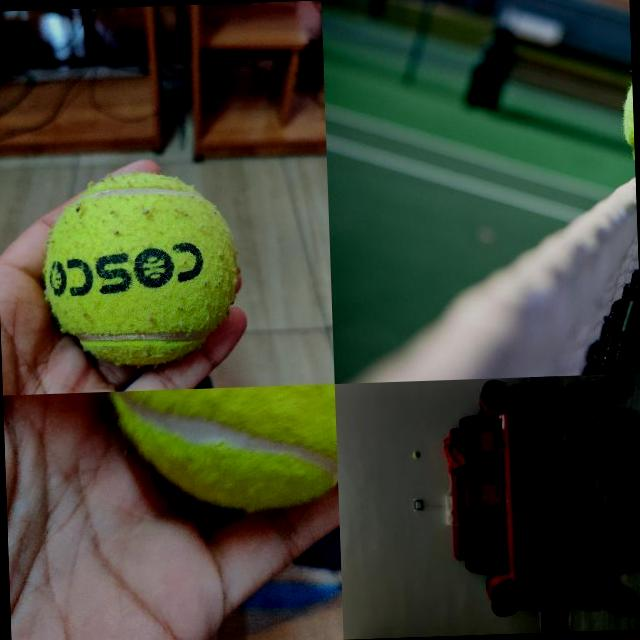tennis-ball: (39, 167, 240, 368), (106, 383, 338, 512), (412, 451, 420, 458)
